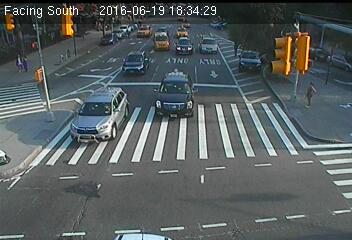neg: (159, 76, 189, 116), (92, 28, 114, 56), (190, 32, 210, 59), (155, 36, 173, 61), (58, 42, 76, 66)
pos: (299, 76, 323, 108), (20, 50, 37, 73), (3, 51, 20, 73), (228, 36, 243, 56)
